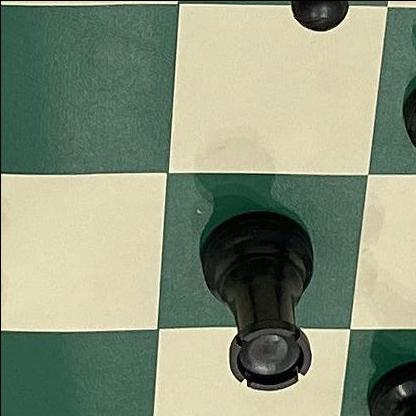black-pawn: (239, 0, 384, 48)
black-rook: (176, 185, 338, 416)
